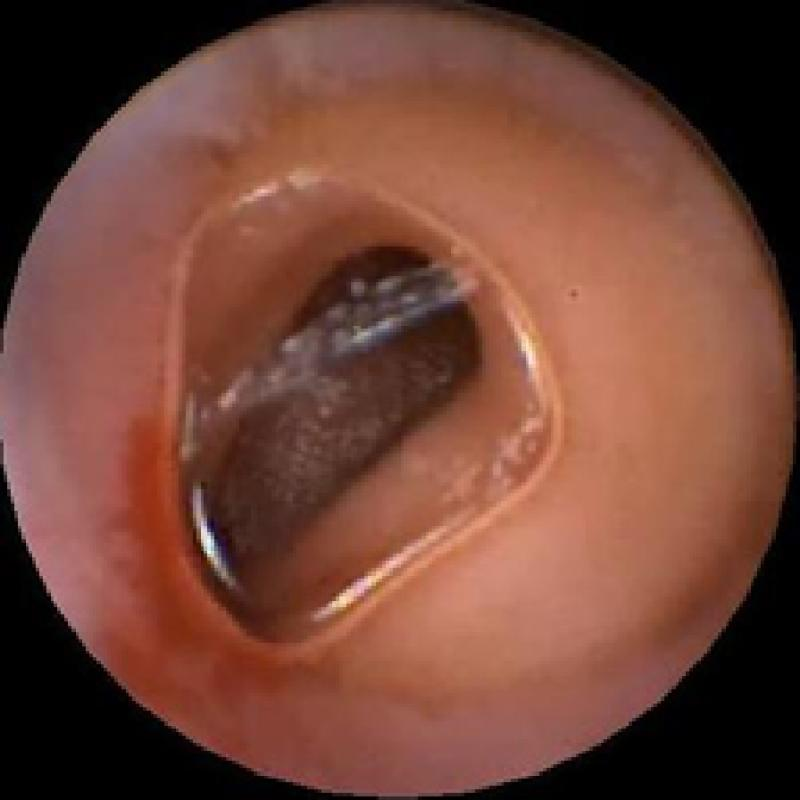bleeding: (182, 418, 361, 707)
